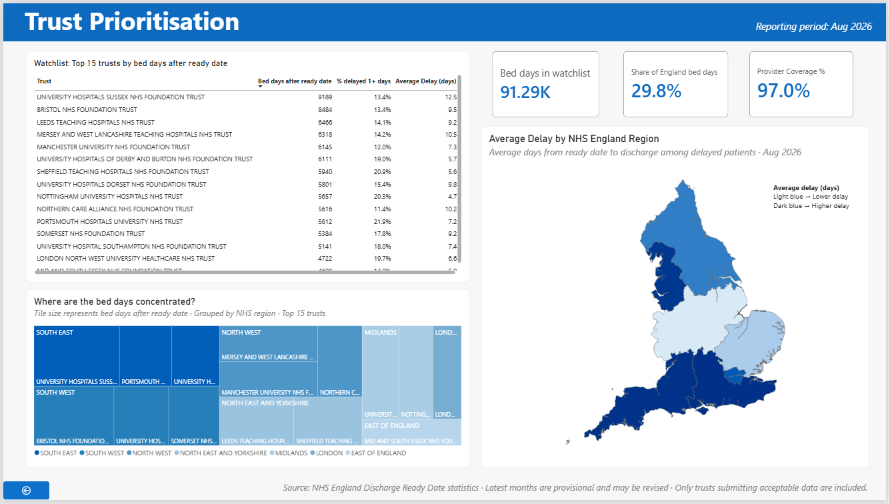

The dashboard page shown, as its layout file describes it:
{"tool":"powerbi","page":{"name":"Page 2","canvas":[1920,1080],"ordinal":1},"visuals":[{"type":"textbox","box":[0,0,1920,82.5],"z":0},{"type":"tableEx","title":"Watchlist: Top 15 trusts by bed days after ready date","fields":{"Values":["NHS Data.Organisation Name","Calendar.Trust Bed Days","Calendar.Trust % Delayed","Calendar.Trust Average Delay Days"]},"box":[50,104.3,963,502.2],"z":1000},{"type":"actionButton","box":[0,1039.1,100,40],"z":2000},{"type":"treemap","title":"Where are the bed days concentrated?","fields":{"Details":["NHS Data.Organisation Name"],"Group":["NHS Data.Region (of Provider)"],"Values":["Calendar.Trust Bed Days"]},"box":[50,621.7,963,387],"z":3000},{"type":"shapeMap","title":"Average Delay by NHS England Region","fields":{"Category":["NHS Data.Organisation Name"],"Value":["Calendar.Regional Avg Delay Days"]},"box":[1039.1,267.4,843.5,741.3],"z":4000},{"type":"textbox","box":[1434.8,17.4,419.6,65.2],"z":5000},{"type":"textbox","box":[1673.9,389.1,173.9,150],"z":6000},{"type":"textbox","box":[158.7,1039.1,1760.9,39.1],"z":7000},{"type":"cardVisual","fields":{"Data":["Calendar.Watchlist Bed Days"]},"box":[1063,104.3,232.6,143.5],"z":8000},{"type":"cardVisual","fields":{"Data":["Calendar.Watchlist Share of England"]},"box":[1347.8,104.3,228.3,143.5],"z":9000},{"type":"cardVisual","fields":{"Data":["Calendar.Provider Coverage %"]},"box":[1621.7,104.3,226.1,143.5],"z":10000}]}

Visuals, with their boxes in screenshot pixels (x1, y1, x2, y2), scaled from the page's 1920x1080 canvas onto the 889x504 screenshot:
textbox: [0, 0, 888, 38]
"Watchlist: Top 15 trusts by bed days after ready date" tableEx: [23, 49, 469, 283]
actionButton: [0, 485, 46, 503]
"Where are the bed days concentrated?" treemap: [23, 290, 469, 471]
"Average Delay by NHS England Region" shapeMap: [481, 125, 872, 471]
textbox: [664, 8, 859, 39]
textbox: [775, 182, 856, 252]
textbox: [73, 485, 888, 503]
cardVisual - Calendar.Watchlist Bed Days: [492, 49, 600, 116]
cardVisual - Calendar.Watchlist Share of England: [624, 49, 730, 116]
cardVisual - Calendar.Provider Coverage %: [751, 49, 856, 116]
